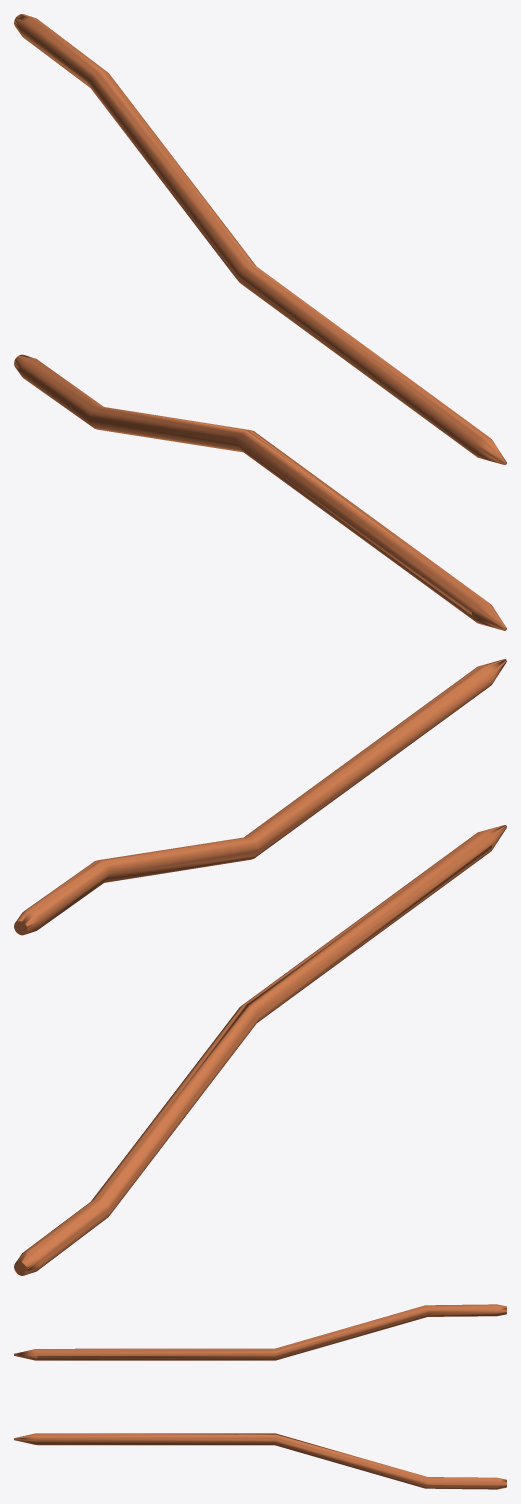
The model's file is anymal_thigh_r_2.obj.
3 views of the same model, one above another, from view 1: azimuth 30°, elevation 25°; view 2: azimuth 150°, elevation 25°; view 3: azimuth 270°, elevation 25° (orthographic). The views are drawn at different scales.
Parts seen in each view (by area): view 1: anymal_thigh_r_2; view 2: anymal_thigh_r_2; view 3: anymal_thigh_r_2.
Boxes of the visible parts, x1,y1,x2,y2 form: anymal_thigh_r_2: [14, 14, 506, 630]; anymal_thigh_r_2: [14, 659, 506, 1275]; anymal_thigh_r_2: [14, 1304, 506, 1489].
Bounding box in the file's own units: 0.006 × 0.1015 × 0.2462.
